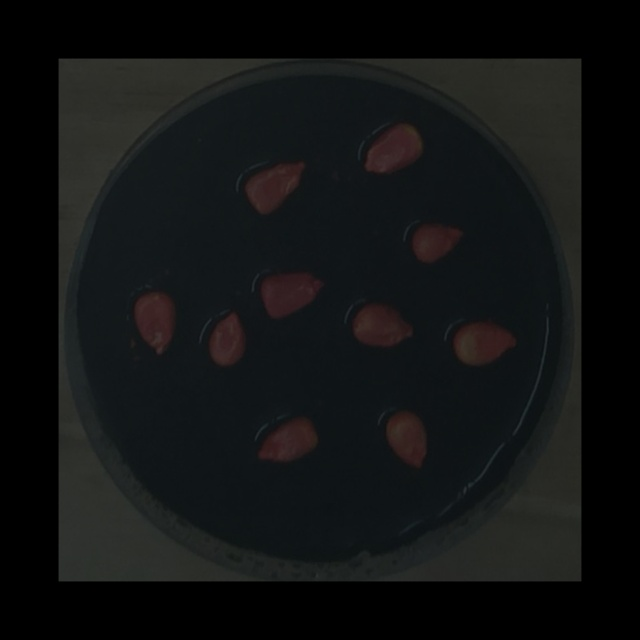Zea mays: (253, 264, 331, 327), (239, 154, 313, 220), (356, 116, 431, 180), (446, 315, 525, 373), (346, 295, 419, 355), (126, 285, 182, 363), (251, 411, 325, 470), (381, 404, 434, 476), (201, 304, 253, 373), (405, 217, 470, 270)
